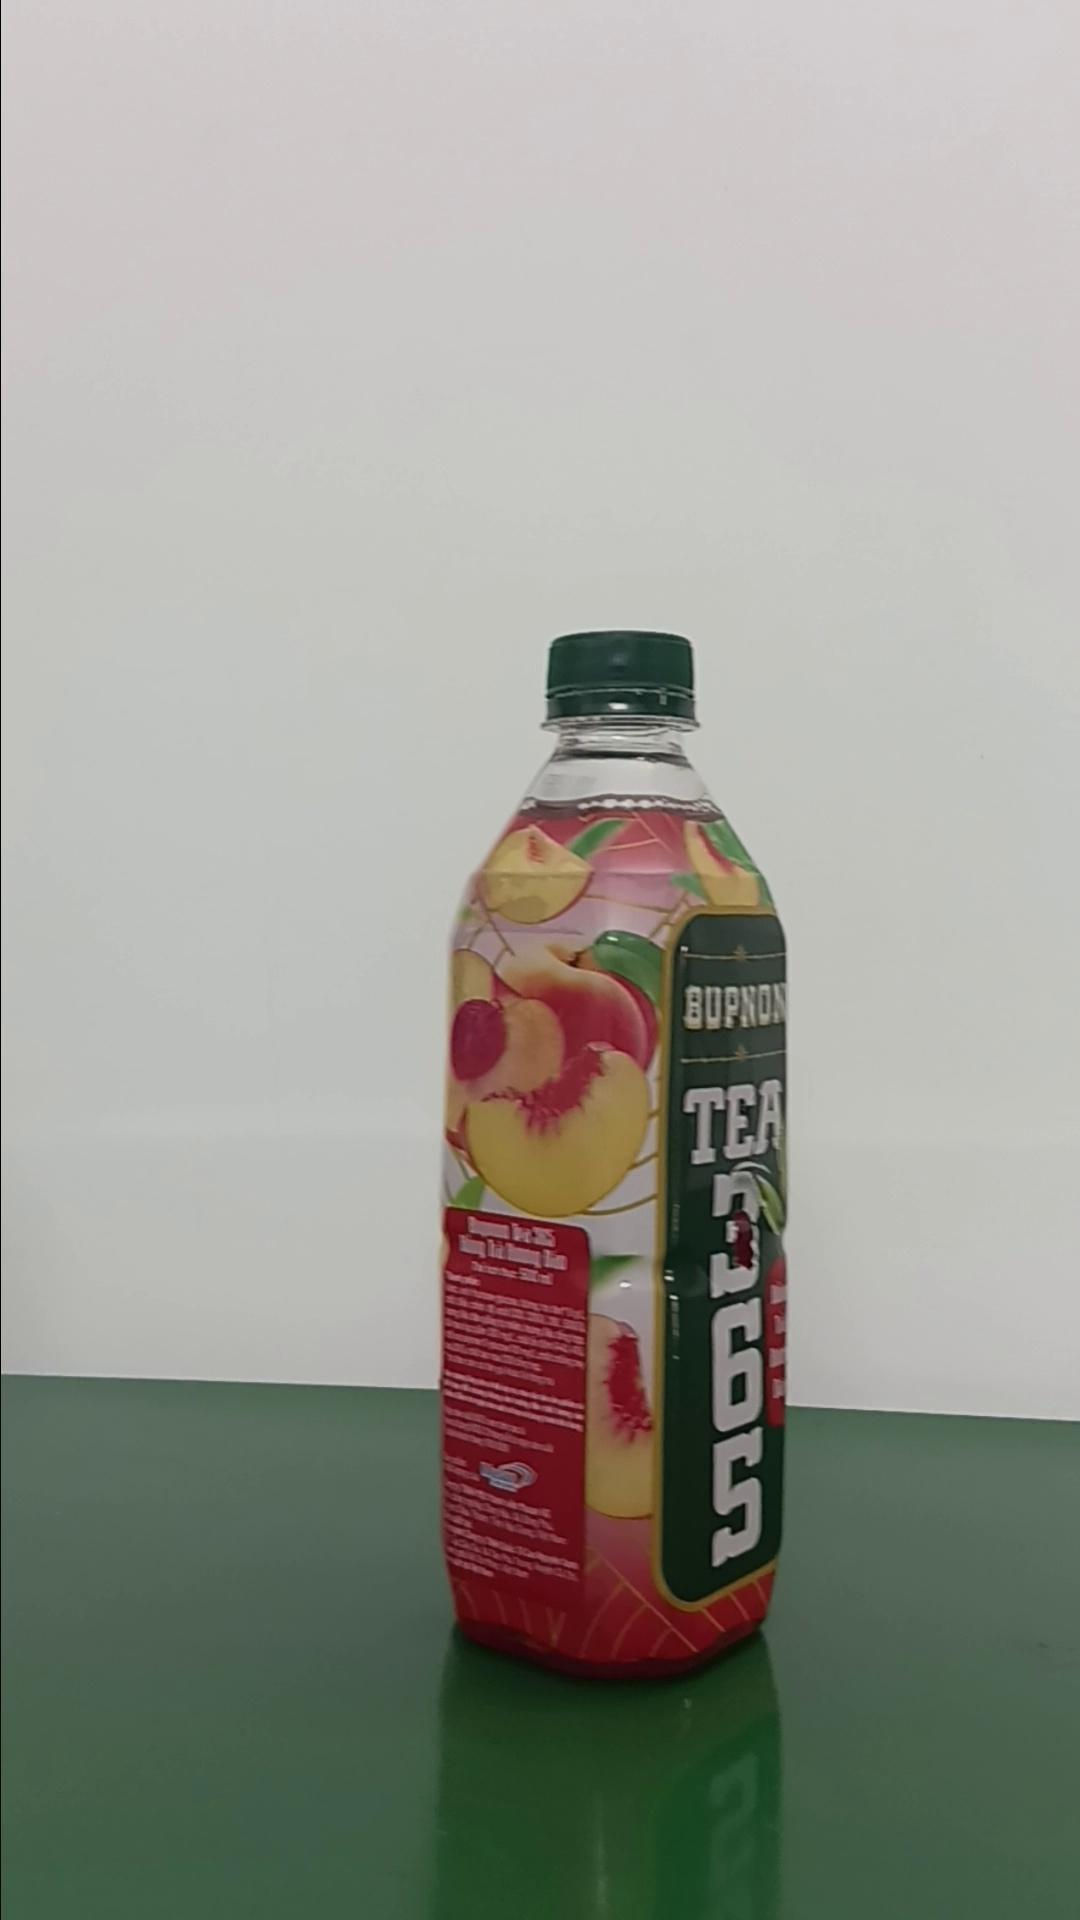loi rach va lap chai: (436, 621, 790, 1689)
